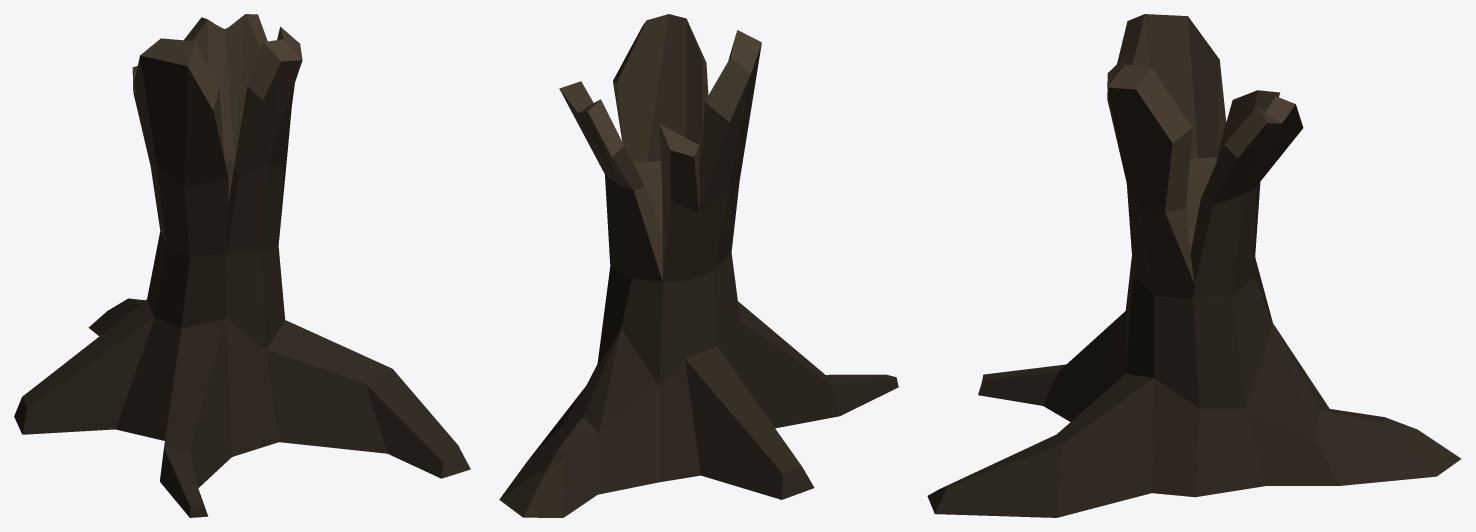
File: synty-tree-stump-02.gltf
3 views of the same model, side by side, from view 1: azimuth 30°, elevation 25°; view 2: azimuth 150°, elevation 25°; view 3: azimuth 270°, elevation 25° (orthographic). The views are drawn at different scales.
Visible parts, largest first — view 1: SM_Tree_Stump_02; view 2: SM_Tree_Stump_02; view 3: SM_Tree_Stump_02.
Boxes of the visible parts, <box> form: SM_Tree_Stump_02: <box>14,14,470,517</box>; SM_Tree_Stump_02: <box>499,14,898,517</box>; SM_Tree_Stump_02: <box>927,14,1461,517</box>.
Bounding box in the file's own units: 1.9 × 2.36 × 2.75.
1 material, 1 textured.
